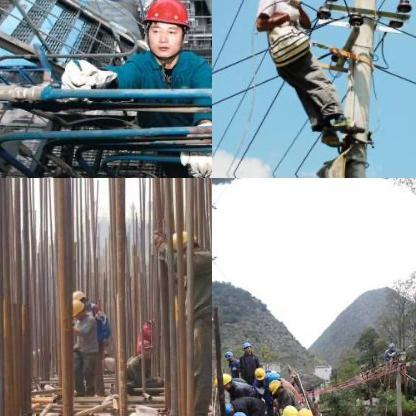Helmet: (141, 0, 196, 56), (166, 228, 204, 260), (63, 298, 83, 316), (68, 288, 86, 304), (218, 369, 234, 387), (280, 402, 300, 415), (266, 377, 282, 391), (240, 338, 252, 356), (252, 366, 264, 380), (223, 347, 234, 361), (230, 408, 248, 415)
